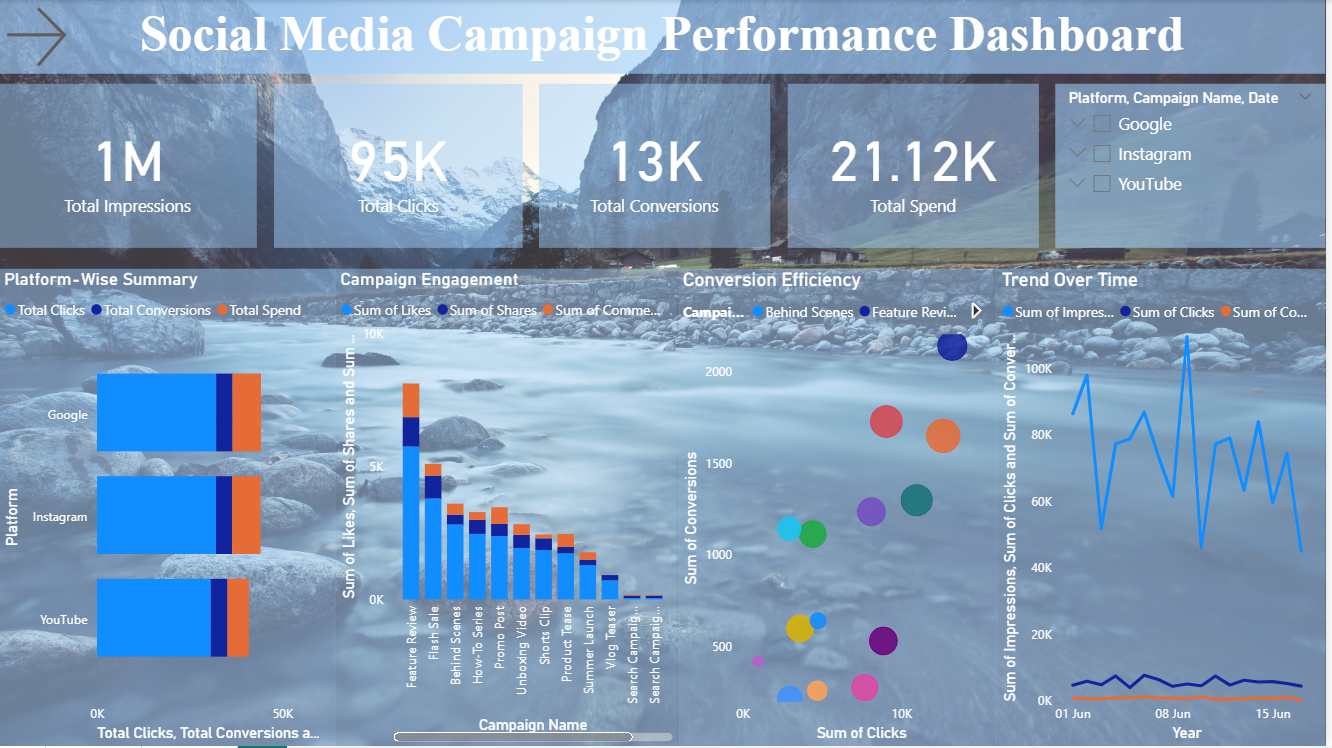

The page's visual inventory and layout, read from the dashboard file:
{"tool":"powerbi","page":{"name":"Page 1","canvas":[1280,720],"ordinal":0},"visuals":[{"type":"barChart","title":"Platform-Wise Summary","fields":{"Category":["social_media_dataset.Platform"],"Y":["social_media_dataset.Total Clicks","social_media_dataset.Total Conversions","social_media_dataset.Total Spend"]},"box":[0,259.4,324.5,460.9],"z":0},{"type":"columnChart","title":"Campaign Engagement ","fields":{"Category":["social_media_dataset.Campaign Name"],"Y":["Sum(social_media_dataset.Likes)","Sum(social_media_dataset.Shares)","Sum(social_media_dataset.Comments)"]},"box":[324.5,259.4,330.6,460.9],"z":1000},{"type":"card","fields":{"Values":["social_media_dataset.Total Impressions"]},"box":[0,80.8,248.5,158],"z":2000},{"type":"card","fields":{"Values":["social_media_dataset.Total Clicks"]},"box":[265.4,80.8,240.1,158],"z":3000},{"type":"card","fields":{"Values":["social_media_dataset.Total Conversions"]},"box":[521.2,80.8,223.2,158],"z":4000},{"type":"card","fields":{"Values":["social_media_dataset.Total Spend"]},"box":[761.3,80.8,242.5,158],"z":5000},{"type":"textbox","box":[0,0,1280,71.3],"z":6000},{"type":"slicer","fields":{"Values":["social_media_dataset.Platform","social_media_dataset.Campaign Name","social_media_dataset.Date"]},"box":[1019.4,80.8,260.6,158],"z":7000},{"type":"lineChart","title":"Trend Over Time","fields":{"Y":["Sum(social_media_dataset.Impressions)","Sum(social_media_dataset.Clicks)","Sum(social_media_dataset.Conversions)"],"Category":["social_media_dataset.Date.Variation.Date Hierarchy.Year","social_media_dataset.Date.Variation.Date Hierarchy.Month","social_media_dataset.Date.Variation.Date Hierarchy.Day"]},"box":[962.7,259.4,317.3,460.9],"z":8000},{"type":"scatterChart","title":" Conversion Efficiency ","fields":{"X":["Sum(social_media_dataset.Clicks)"],"Y":["Sum(social_media_dataset.Conversions)"],"Size":["Sum(social_media_dataset.Spend ($))"],"Series":["social_media_dataset.Campaign Name"]},"box":[655.1,259.4,307.6,460.9],"z":9000},{"type":"actionButton","box":[0,0,77.2,71.2],"z":11000}]}

Visuals, with their boxes in screenshot pixels (x1, y1, x2, y2), scaled from the page's 1280x720 canvas onto the 1332x748 screenshot:
"Platform-Wise Summary" barChart: <region>0, 269, 338, 747</region>
"Campaign Engagement " columnChart: <region>338, 269, 682, 747</region>
card - social_media_dataset.Total Impressions: <region>0, 84, 259, 248</region>
card - social_media_dataset.Total Clicks: <region>276, 84, 526, 248</region>
card - social_media_dataset.Total Conversions: <region>542, 84, 775, 248</region>
card - social_media_dataset.Total Spend: <region>792, 84, 1045, 248</region>
textbox: <region>0, 0, 1331, 74</region>
slicer - social_media_dataset.Platform x social_media_dataset.Campaign Name: <region>1061, 84, 1331, 248</region>
"Trend Over Time" lineChart: <region>1002, 269, 1331, 747</region>
" Conversion Efficiency " scatterChart: <region>682, 269, 1002, 747</region>
actionButton: <region>0, 0, 80, 74</region>
